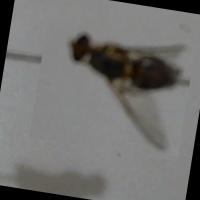Oriental-fruit-fly: (29, 20, 196, 161)
